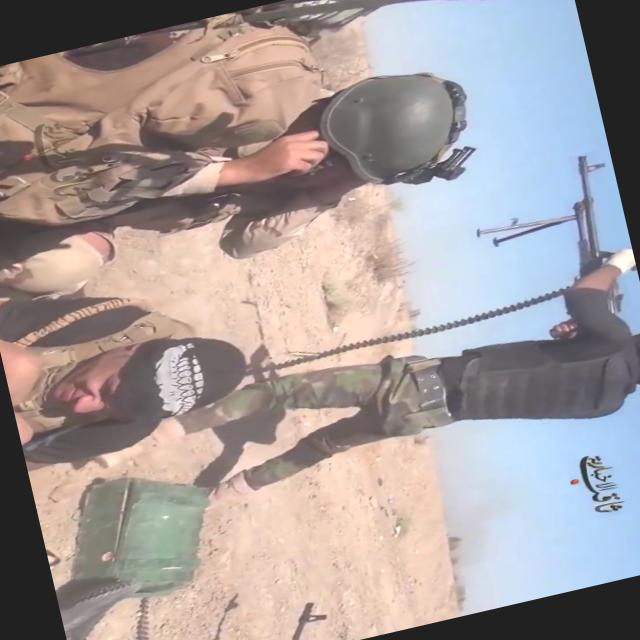long weapon: (450, 144, 639, 361)
